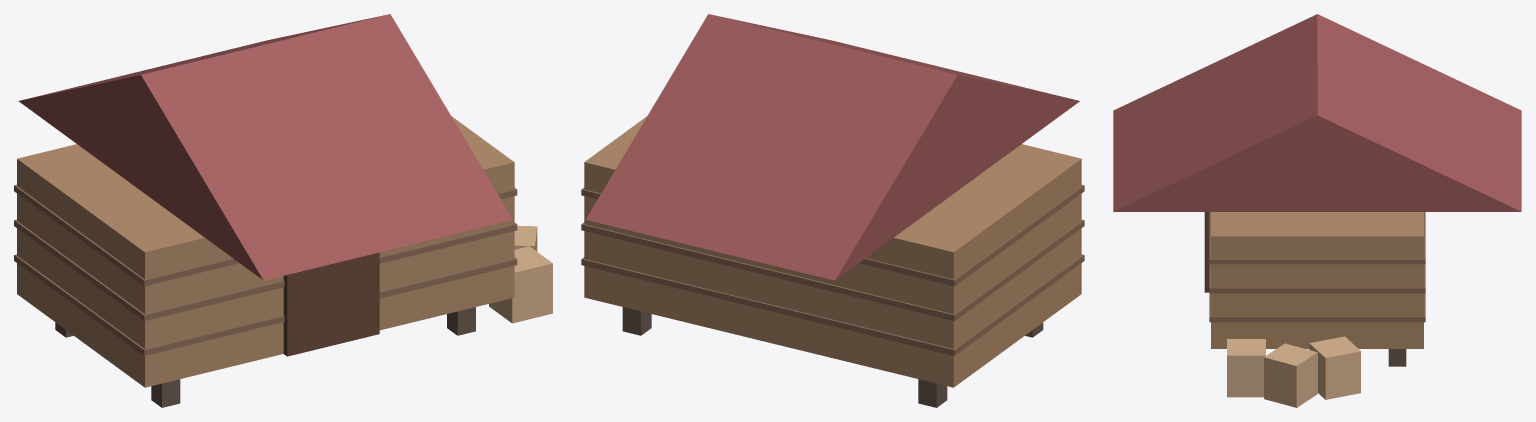
The model's file is storehouse.glb.
The picture shows the model from 3 angles, left to right: view 1: azimuth 30°, elevation 25°; view 2: azimuth 150°, elevation 25°; view 3: azimuth 270°, elevation 25°; orthographic projection. The views are drawn at different scales.
Parts seen in each view (by area): view 1: roof, walls, door, detail_plank0, detail_plank1, detail_sack0, detail_plank2, stilt, stilt.002, detail_sack1; view 2: roof, walls, detail_plank0, detail_plank1, detail_plank2, stilt.003, stilt.001; view 3: roof, walls, detail_sack1, detail_sack2, detail_sack0, detail_plank2, detail_plank0, detail_plank1, door.
Part boxes in pixels (x1,y1,x2,y2): roof: (18,14,512,280); walls: (17,116,514,387); door: (283,252,379,356); detail_plank0: (14,254,517,355); detail_plank1: (14,219,517,321); detail_sack0: (489,246,552,323); detail_plank2: (14,184,517,286); stilt: (151,379,180,407); stilt.002: (447,307,475,335); detail_sack1: (514,226,537,251); roof: (585,14,1079,280); walls: (584,116,1081,387); detail_plank0: (581,254,1084,355); detail_plank1: (581,219,1084,321); detail_plank2: (581,185,1084,286); stilt.003: (622,307,651,335); stilt.001: (918,379,947,407); roof: (1113,14,1521,211); walls: (1211,212,1423,348); detail_sack1: (1264,343,1317,407); detail_sack2: (1309,336,1360,399); detail_sack0: (1227,339,1265,397); detail_plank2: (1209,212,1425,264); detail_plank0: (1209,293,1425,322); detail_plank1: (1209,264,1425,293); door: (1204,212,1209,292).
Size of the model in its own units: 2.41 by 1.48 by 2.3.
